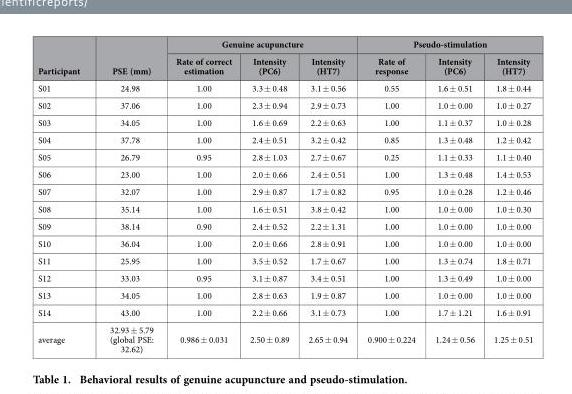table: (37, 37, 532, 354)
table column: (164, 37, 240, 354), (94, 37, 164, 354), (357, 37, 424, 354), (298, 37, 357, 354), (424, 37, 483, 354), (240, 37, 298, 354), (37, 37, 94, 354), (483, 37, 532, 354)
table column header: (37, 37, 532, 79)
table row: (37, 320, 532, 354), (37, 52, 532, 79), (37, 130, 532, 148), (37, 199, 532, 217), (37, 268, 532, 286), (37, 79, 532, 96), (37, 96, 532, 113), (37, 113, 532, 130), (37, 148, 532, 165), (37, 165, 532, 182), (37, 182, 532, 199), (37, 217, 532, 234), (37, 234, 532, 251), (37, 251, 532, 268), (37, 286, 532, 303), (37, 303, 532, 320), (37, 37, 532, 52)
table spanning cell: (94, 37, 164, 79), (164, 37, 357, 52), (357, 37, 532, 52), (37, 37, 94, 79)
